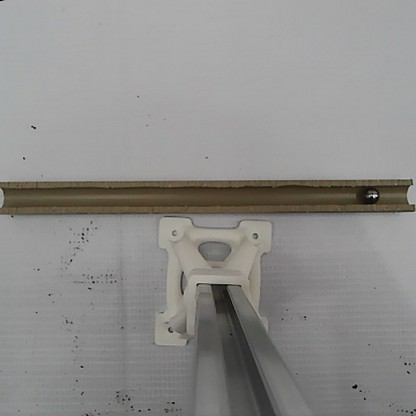ironball: (363, 185, 379, 204)
